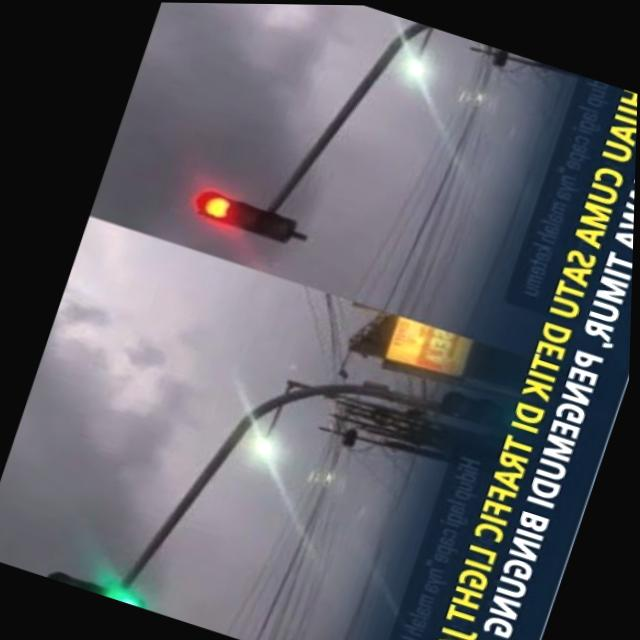Hijau: (109, 583, 149, 607)
Merah: (202, 192, 233, 218)
